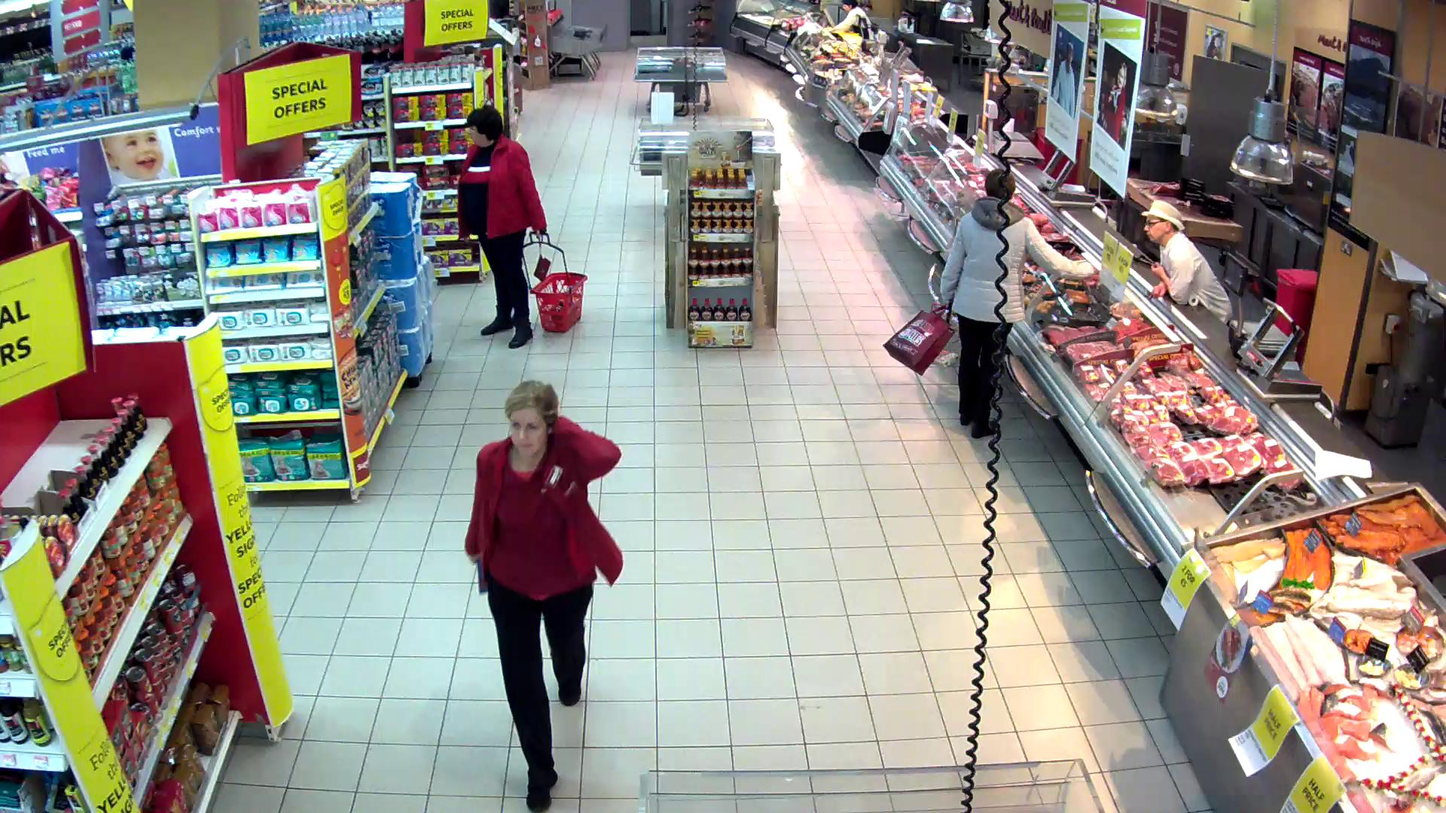filled-basket: (533, 269, 588, 333), (930, 300, 963, 368)
filled-shopping-bags: (883, 303, 955, 376)
person: (940, 167, 1093, 441), (455, 105, 547, 348)
person-with-basket-trolly-and-shopping-bag: (884, 168, 1093, 441)
person-with-filled-basket-trolly: (455, 104, 588, 348)
